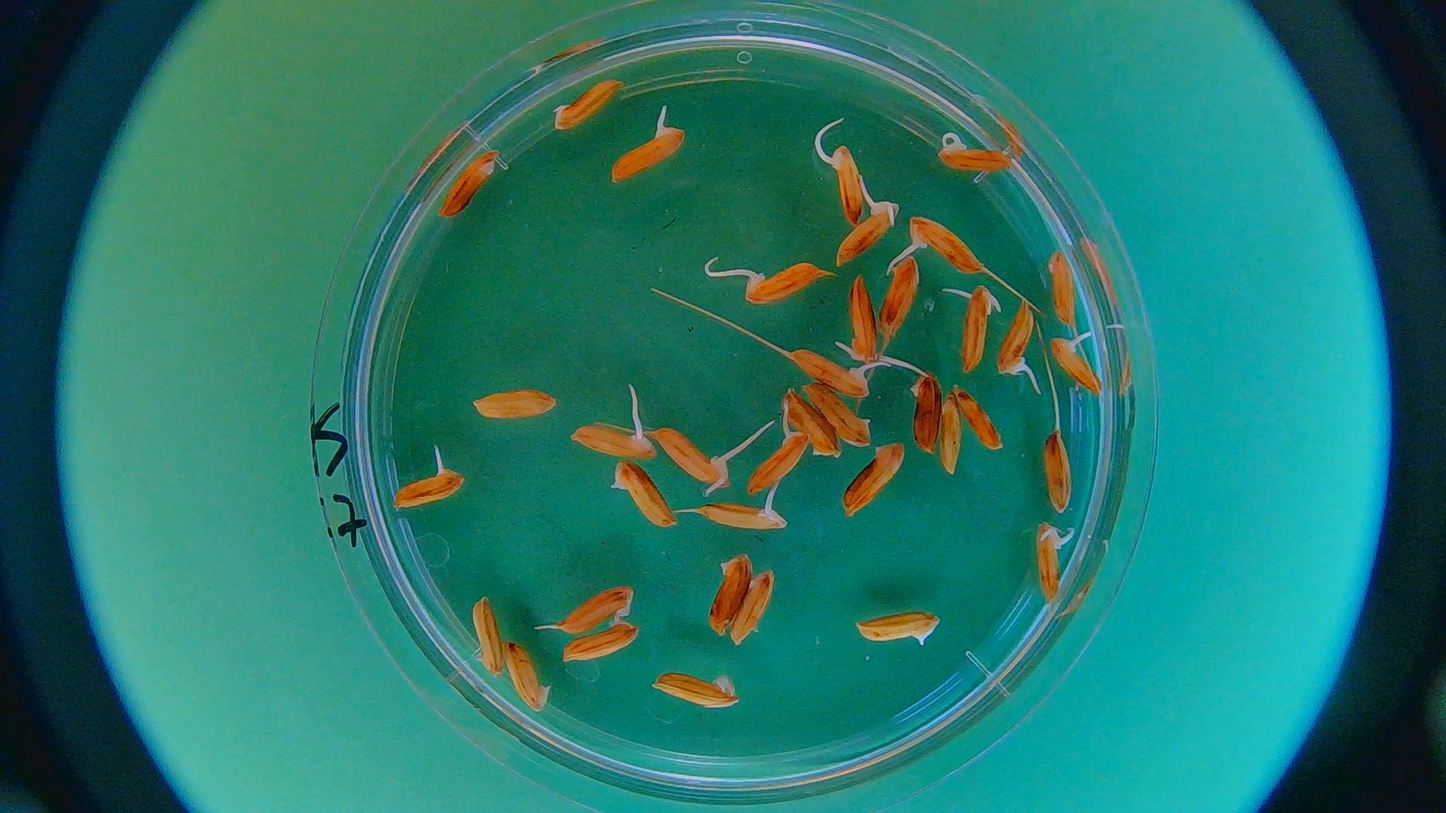no: (609, 457, 678, 527), (805, 381, 876, 449), (844, 444, 905, 517), (557, 586, 638, 637), (439, 151, 498, 219), (780, 392, 837, 461), (553, 79, 627, 130), (709, 554, 754, 634), (500, 641, 549, 712), (727, 574, 773, 647), (649, 671, 739, 707), (880, 257, 919, 335), (856, 612, 941, 647), (471, 592, 505, 678), (959, 388, 1004, 450), (908, 373, 941, 455), (469, 388, 558, 418), (1042, 429, 1073, 513), (941, 394, 964, 478), (1051, 252, 1075, 327)
yes: (838, 274, 894, 362), (731, 257, 821, 307), (612, 122, 688, 181), (789, 348, 875, 400), (907, 218, 984, 273), (831, 198, 892, 267), (657, 428, 725, 489), (751, 430, 806, 493), (1051, 329, 1104, 394), (572, 417, 654, 459), (560, 618, 633, 663), (699, 498, 789, 534), (938, 131, 1011, 173), (393, 466, 462, 510), (956, 289, 993, 370), (827, 139, 862, 221), (999, 301, 1036, 376), (1033, 524, 1066, 604)
